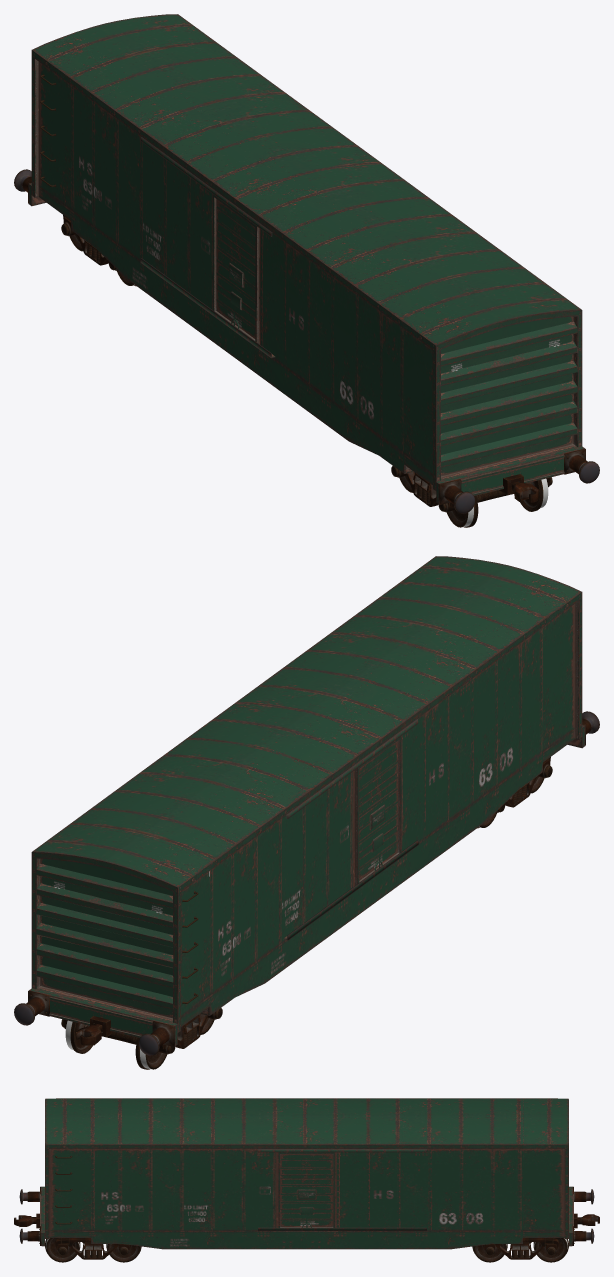
File: SM_car1.gltf
3 renders of one model, top to bottom at view 1: azimuth 30°, elevation 25°; view 2: azimuth 150°, elevation 25°; view 3: azimuth 270°, elevation 25°, orthographic. The views are drawn at different scales.
Visible parts, largest first — view 1: SM_car1; view 2: SM_car1; view 3: SM_car1.
Part boxes in pixels (x1=…): SM_car1: x1=14, y1=14, x2=599, y2=527; SM_car1: x1=14, y1=556, x2=599, y2=1069; SM_car1: x1=14, y1=1098, x2=599, y2=1262.
Size of the model in its own units: 3.42 by 4.61 by 18.15.
Materials: 2 (2 with a texture image).
